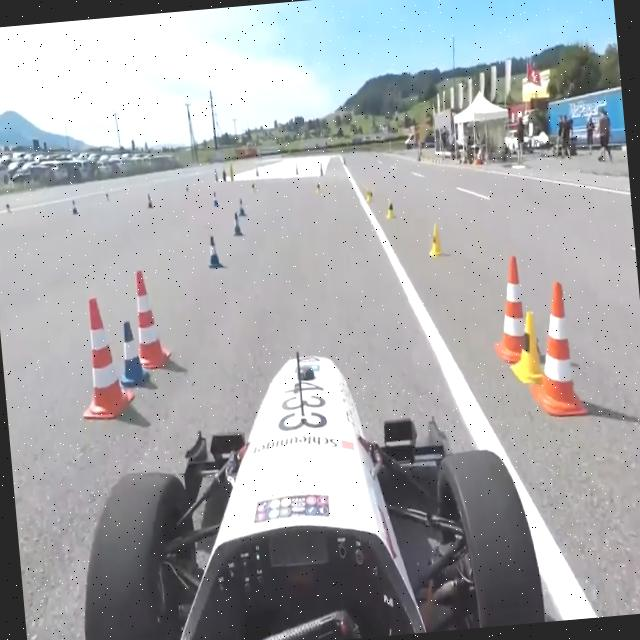blue_cone: (114, 315, 148, 388), (204, 229, 222, 269), (229, 213, 241, 238), (236, 196, 247, 218), (70, 199, 80, 218), (211, 188, 219, 208), (146, 190, 154, 209)
large_orange_cone: (530, 272, 586, 416), (73, 291, 130, 423), (492, 252, 536, 366), (130, 261, 167, 371)
yellow_cone: (506, 301, 542, 382), (426, 220, 444, 259), (361, 182, 374, 202), (384, 196, 394, 220), (102, 191, 110, 208), (4, 201, 10, 216), (314, 180, 320, 194), (250, 181, 256, 194), (184, 182, 189, 194)
